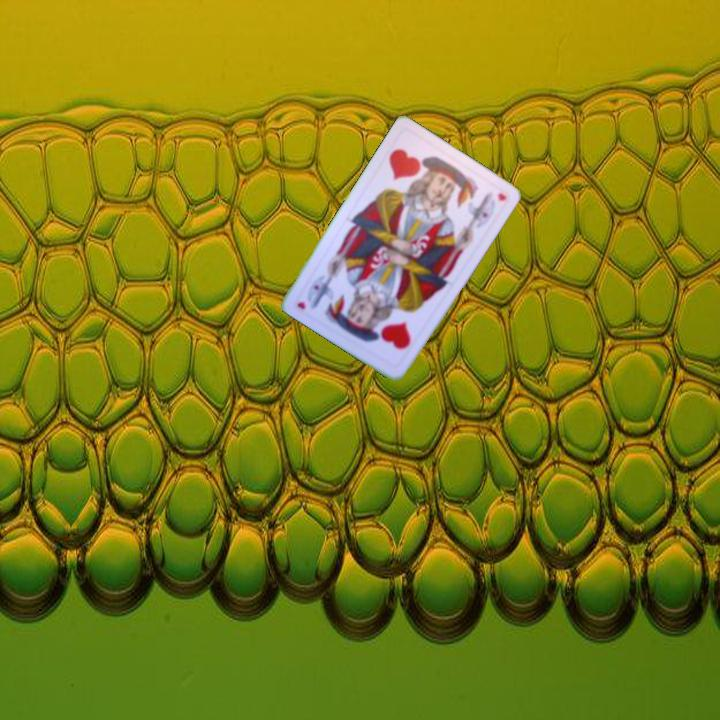h_j.png: (342, 289, 427, 372), (373, 127, 459, 209)
